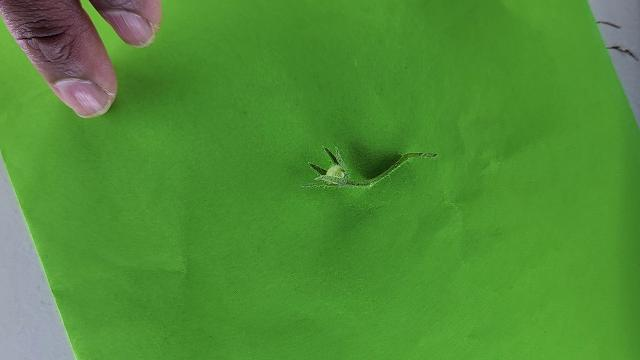Fruit Bud: (306, 145, 349, 185)
